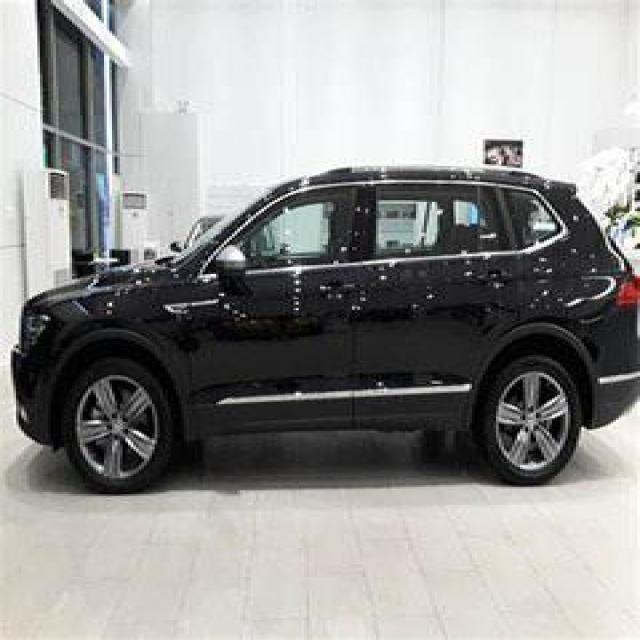car: (5, 113, 640, 540)
